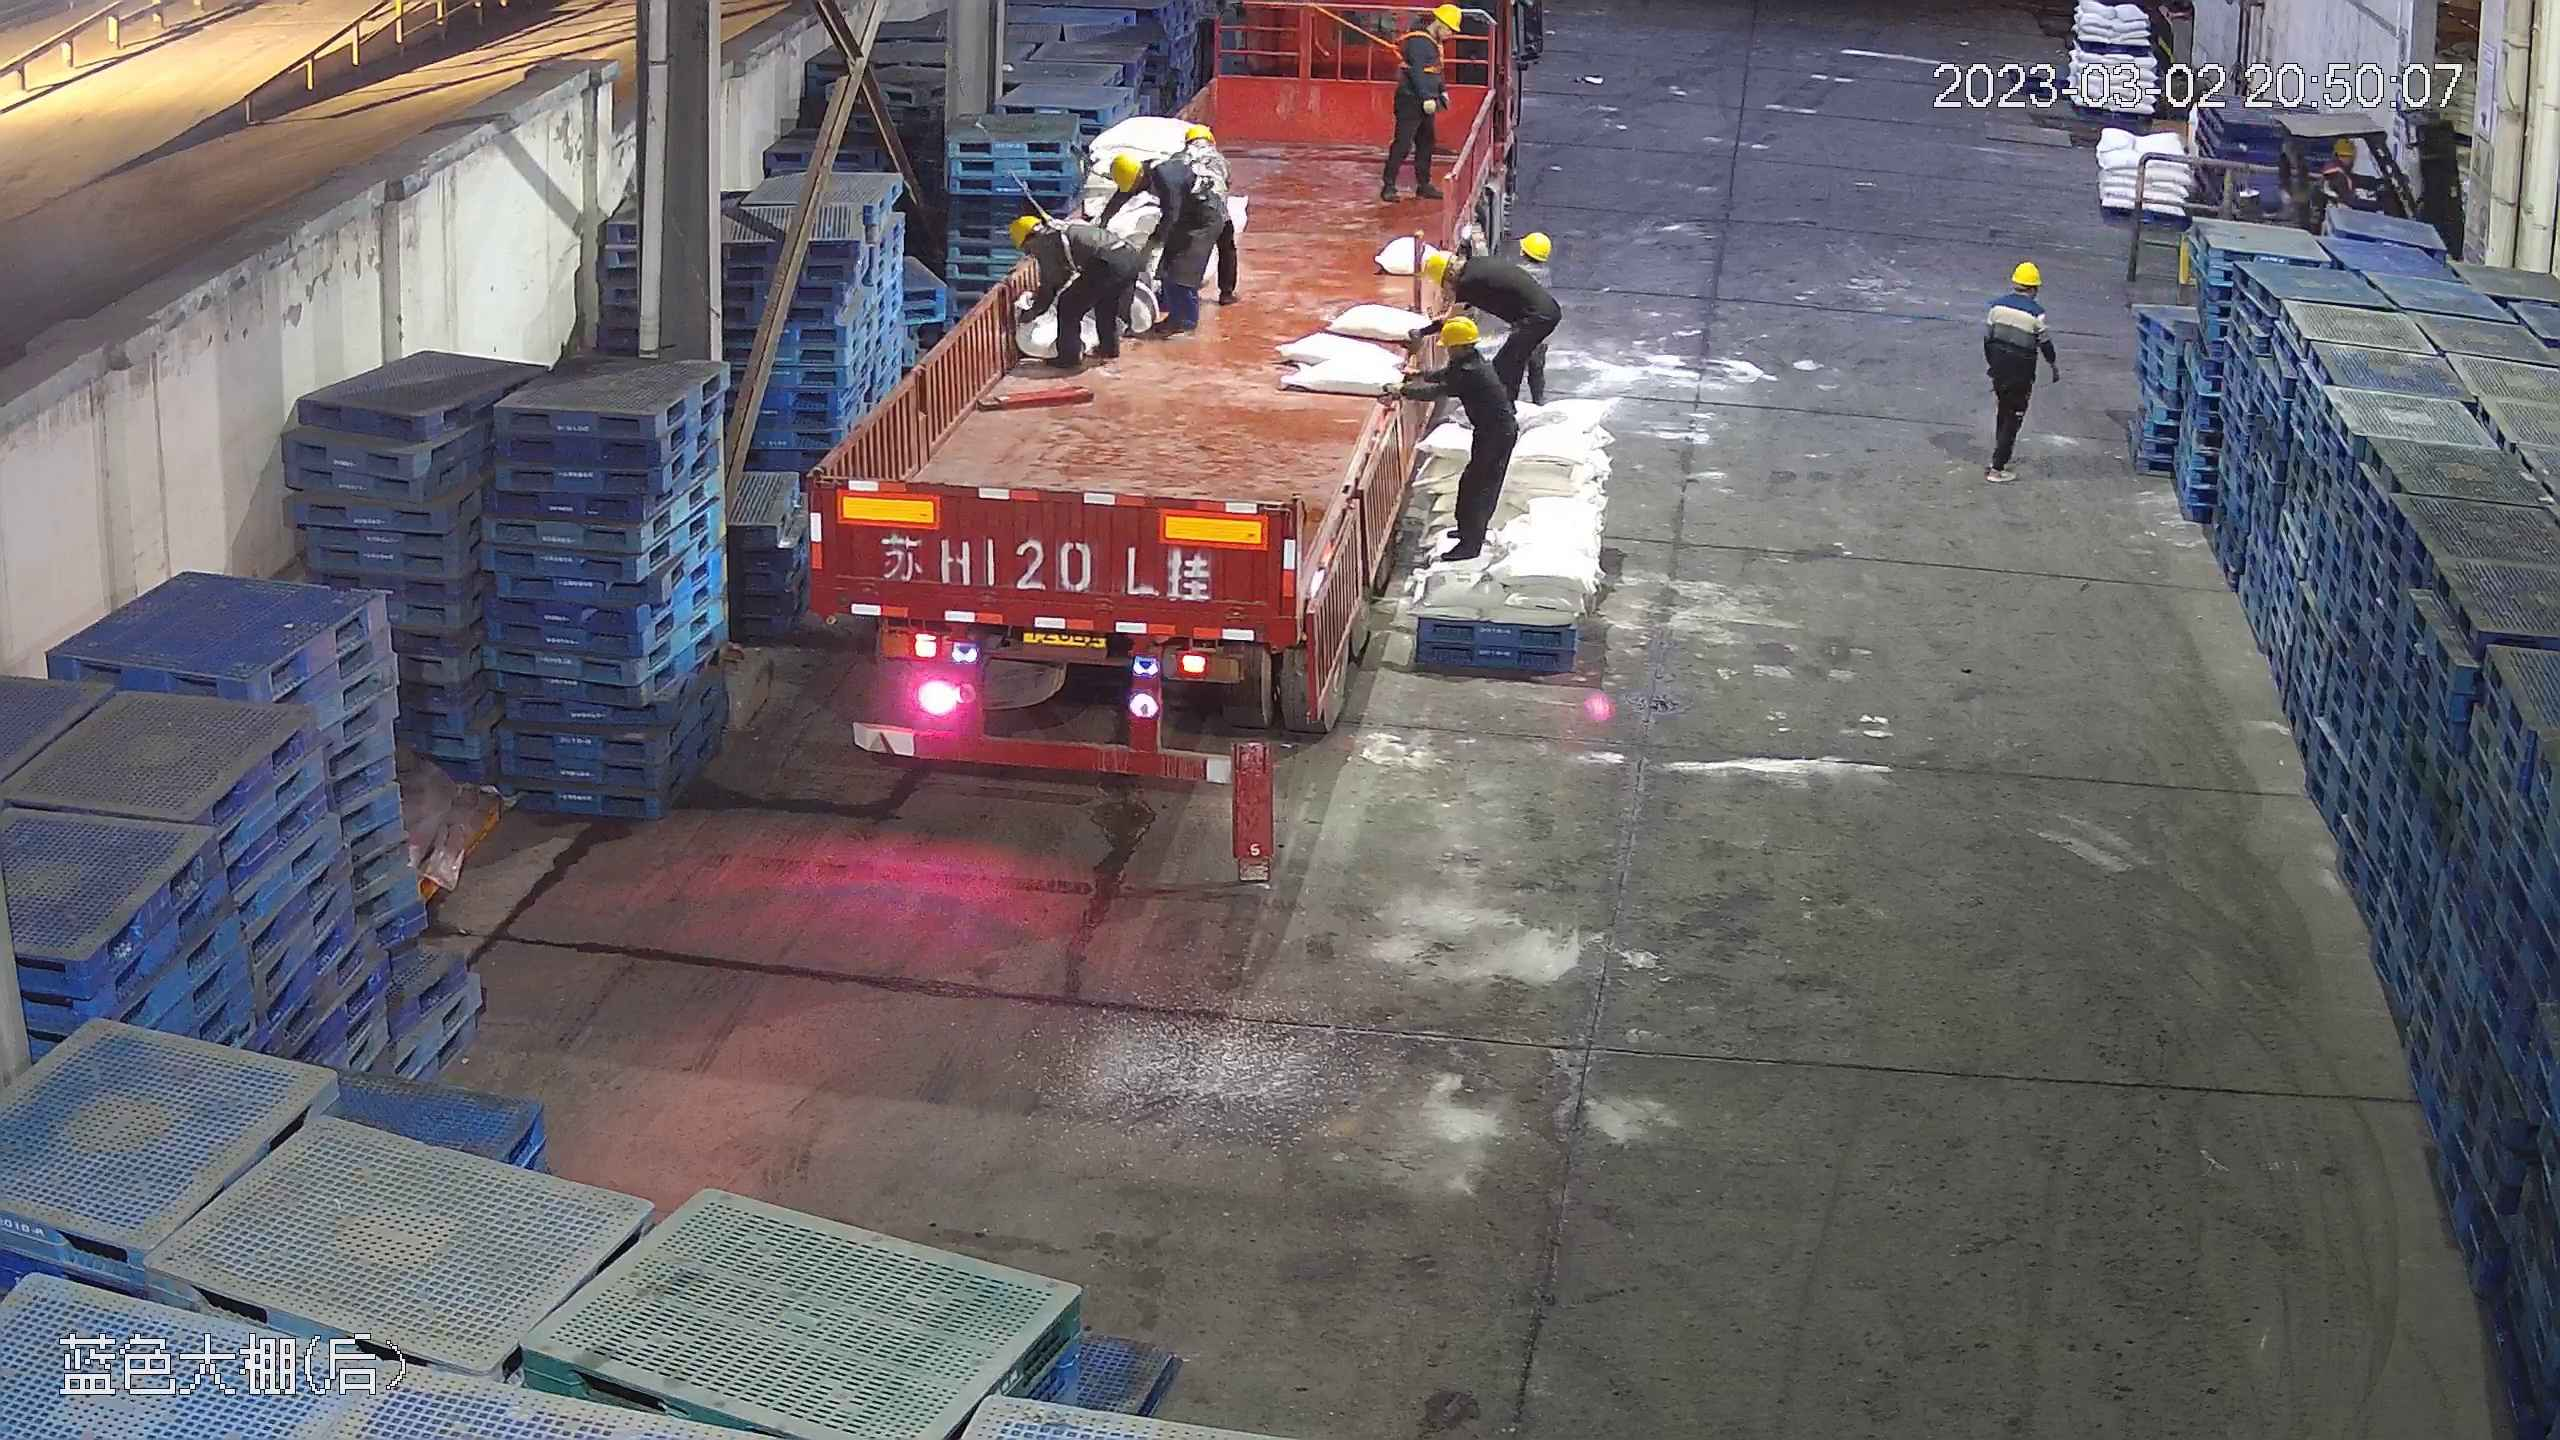belt: (1040, 200, 1087, 271), (1143, 150, 1206, 195), (1386, 23, 1439, 77), (1181, 141, 1222, 181)
head: (1430, 314, 1509, 397), (1420, 249, 1502, 317), (1160, 124, 1230, 198), (1007, 210, 1081, 275), (1094, 151, 1159, 222), (1988, 258, 2053, 329), (1402, 6, 1462, 70), (2318, 132, 2366, 201)
helmet: (1437, 313, 1483, 347), (1009, 211, 1046, 248), (1107, 152, 1142, 189), (1516, 232, 1551, 263), (1421, 253, 1450, 287), (2010, 258, 2043, 286), (1430, 3, 1461, 32), (1178, 123, 1214, 147), (2330, 134, 2357, 158)
people: (1422, 315, 1512, 572), (1436, 235, 1559, 416), (1109, 147, 1221, 343), (1003, 206, 1122, 369), (1979, 256, 2059, 482), (1380, 4, 1460, 205)
truck: (803, 45, 1552, 791)
